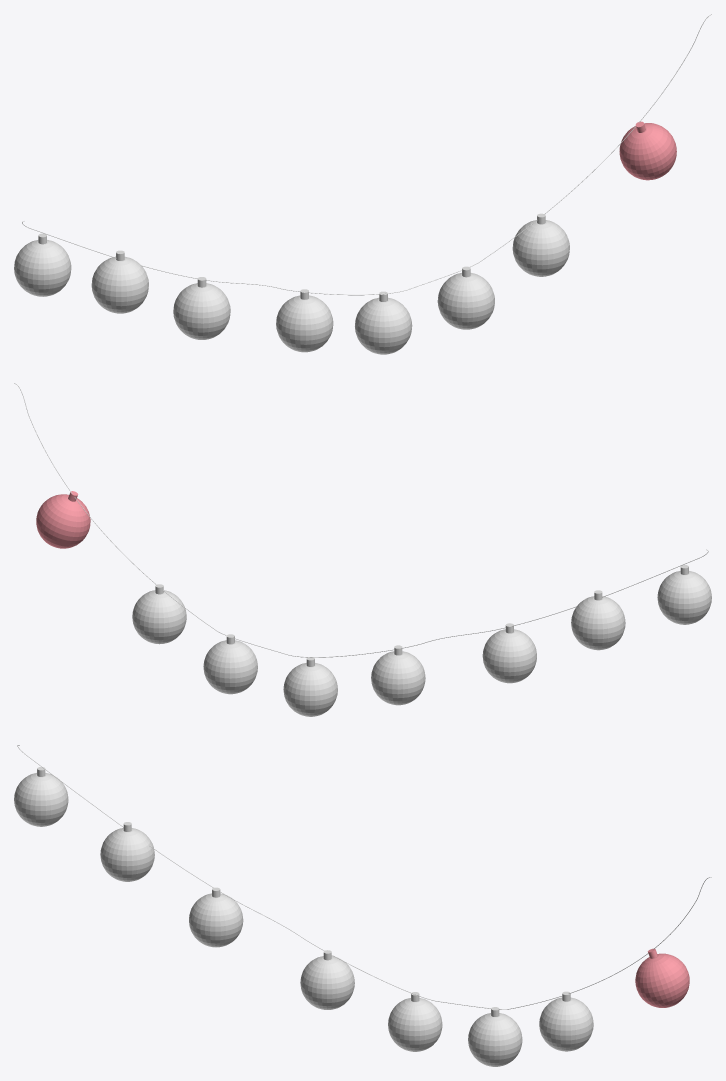
File: bolas_navidad_3.fbx
The picture shows the model from 3 angles, top to bottom: view 1: azimuth 30°, elevation 25°; view 2: azimuth 150°, elevation 25°; view 3: azimuth 330°, elevation 25°; orthographic projection. The views are drawn at different scales.
Visible parts, largest first — view 1: Sphere.006, Sphere, Sphere.002, Sphere.007, Sphere.001, Sphere.004, Sphere.005, Sphere.003, BézierCurve.002; view 2: Sphere.006, Sphere.001, Sphere.004, Sphere.007, Sphere, Sphere.005, Sphere.002, Sphere.003, BézierCurve.002; view 3: Sphere.003, Sphere.004, Sphere.006, Sphere.002, Sphere, Sphere.007, Sphere.001, Sphere.005, BézierCurve.002.
Boxes of the visible parts, x1,y1,x2,y2 form: Sphere.006: [91, 250, 148, 313]; Sphere: [173, 277, 230, 339]; Sphere.002: [355, 291, 412, 354]; Sphere.007: [437, 266, 494, 329]; Sphere.001: [276, 289, 333, 352]; Sphere.004: [512, 213, 569, 276]; Sphere.005: [14, 233, 71, 296]; Sphere.003: [619, 121, 676, 180]; BézierCurve.002: [22, 14, 711, 295]; Sphere.006: [571, 590, 625, 650]; Sphere.001: [371, 645, 425, 705]; Sphere.004: [132, 584, 186, 644]; Sphere.007: [203, 634, 257, 694]; Sphere: [482, 623, 536, 683]; Sphere.005: [657, 565, 711, 624]; Sphere.002: [283, 657, 337, 716]; Sphere.003: [36, 491, 90, 548]; BézierCurve.002: [14, 383, 708, 657]; Sphere.003: [635, 948, 689, 1007]; Sphere.004: [539, 991, 593, 1051]; Sphere.006: [100, 822, 154, 881]; Sphere.002: [388, 992, 442, 1051]; Sphere: [189, 887, 243, 947]; Sphere.007: [468, 1007, 522, 1066]; Sphere.001: [300, 950, 354, 1009]; Sphere.005: [14, 767, 68, 826]; BézierCurve.002: [17, 745, 711, 1009].
Size of the model in its own units: 2.86 by 1.02 by 0.3904.
Materials: 4 (1 with a texture image).
